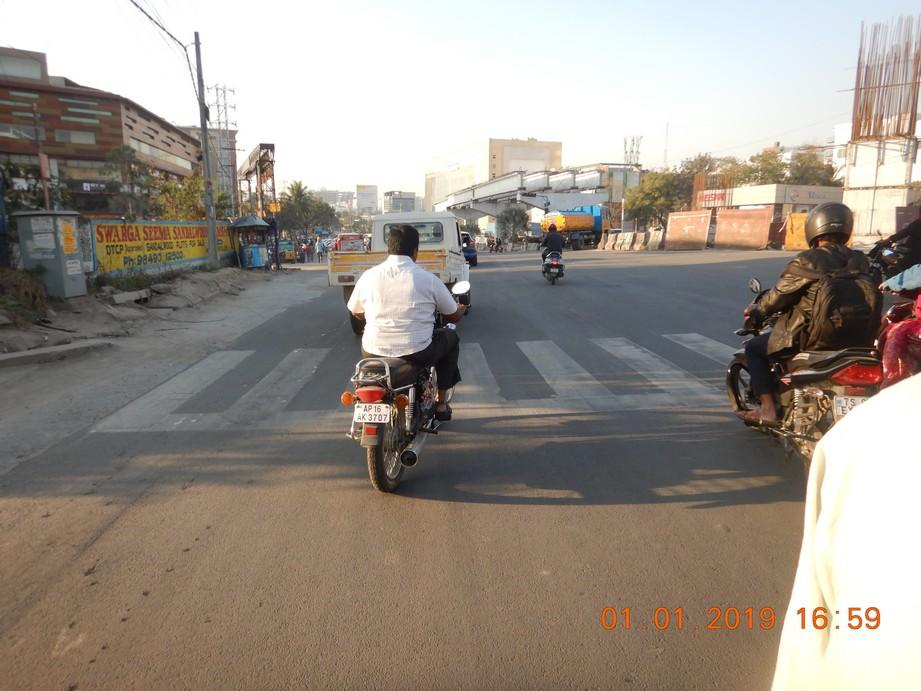plate: (354, 401, 389, 424)
